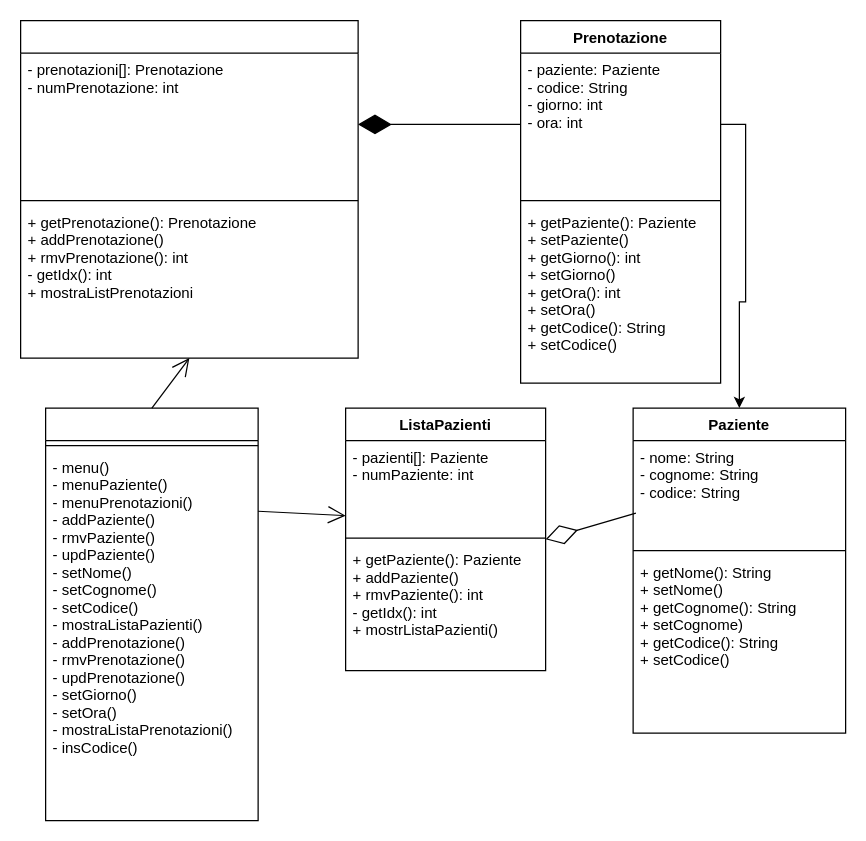
Image size: 866x841. Some labels were removed from this diagram. Here are the shapes that lost their labels. From the top down, the box of each, then its label:
(19, 19, 358, 358): Agenda
(44, 407, 258, 821): Studio (Main Class)
